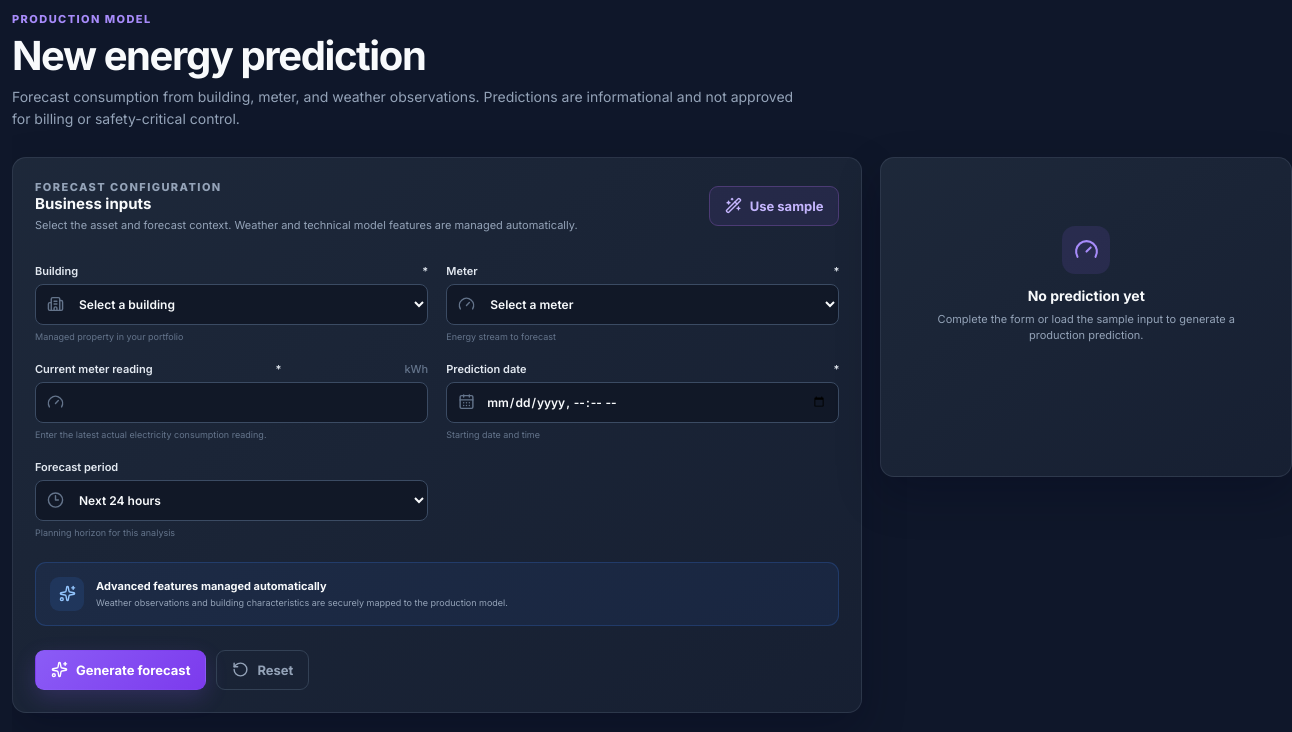
PredictionPage › maps API validation details to the matching raw field
Click the button "Use sample": [774, 206] box x1=709 y1=186 x2=840 y2=226
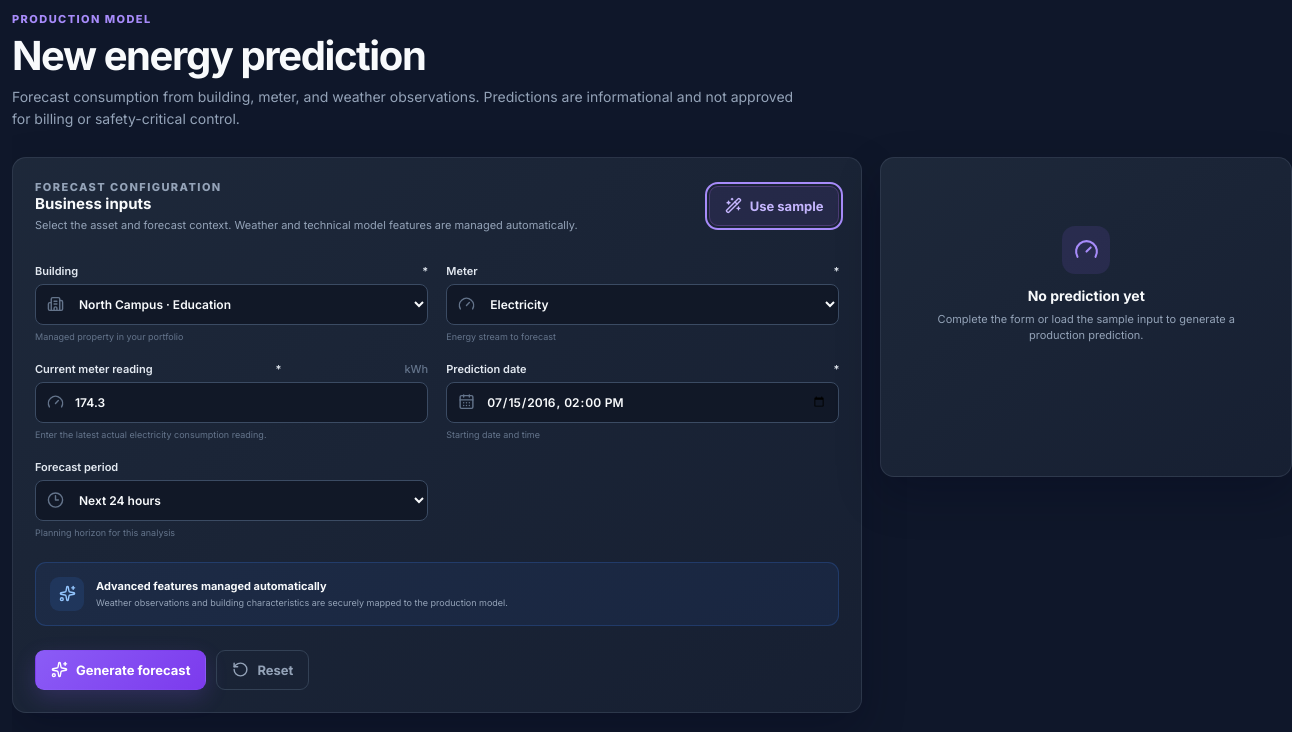
Click the button "Generate forecast": [121, 670] box x1=35 y1=650 x2=206 y2=690
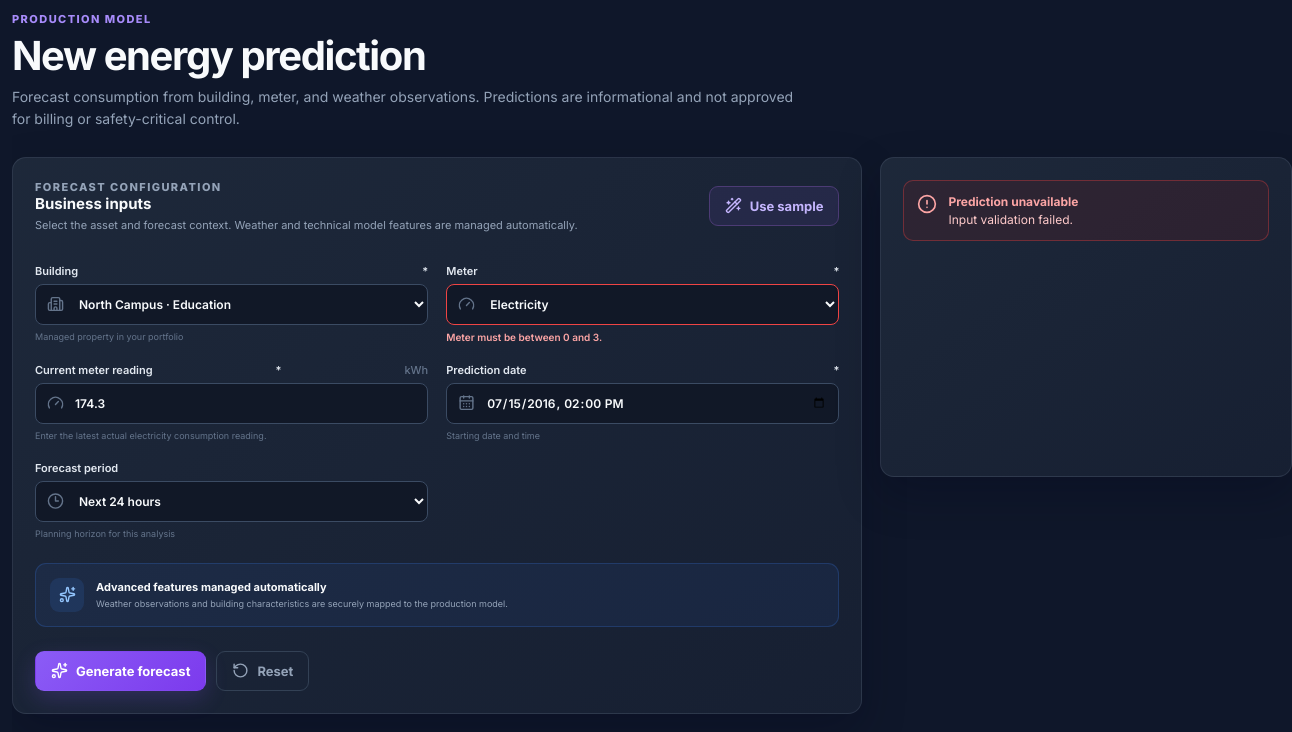
Now the text "Meter must be between 0 and 3." is shown, box x1=446 y1=331 x2=602 y2=343
Now the message shows "Input validation failed.", box x1=948 y1=212 x2=1073 y2=227
